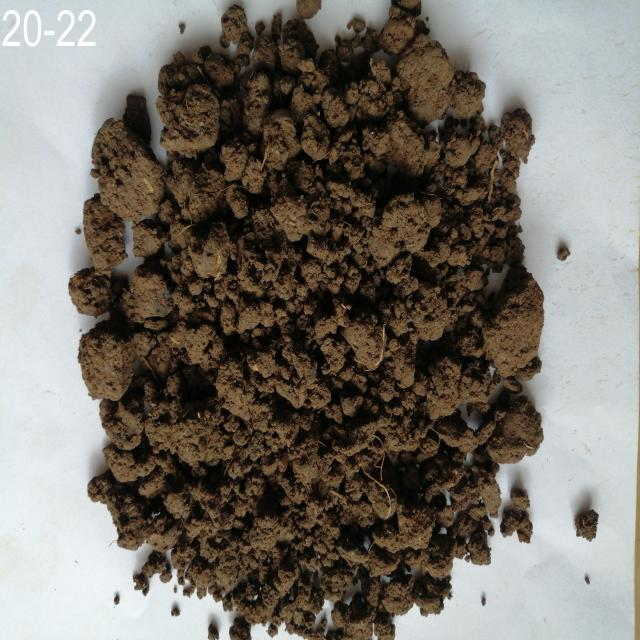soil: (162, 103, 466, 558)
